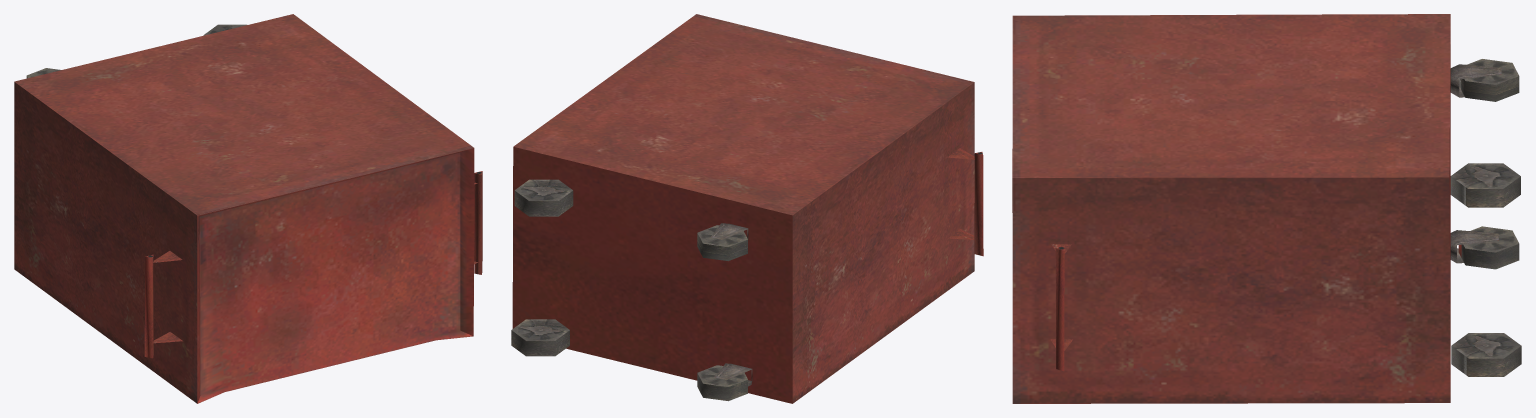
File: p_glo_tool_chest_LOD1.obj
3 views of the same model, side by side, from view 1: azimuth 30°, elevation 25°; view 2: azimuth 150°, elevation 25°; view 3: azimuth 270°, elevation 25° (orthographic). The views are drawn at different scales.
Parts seen in each view (by area): view 1: mtl_p_glo_tool_chest; view 2: mtl_p_glo_tool_chest; view 3: mtl_p_glo_tool_chest.
Boxes of the visible parts, x1,y1,x2,y2 form: mtl_p_glo_tool_chest: (14, 14, 482, 403); mtl_p_glo_tool_chest: (511, 14, 983, 403); mtl_p_glo_tool_chest: (1012, 14, 1521, 403).
Bounding box in the file's own units: 125 × 67.09 × 136.
